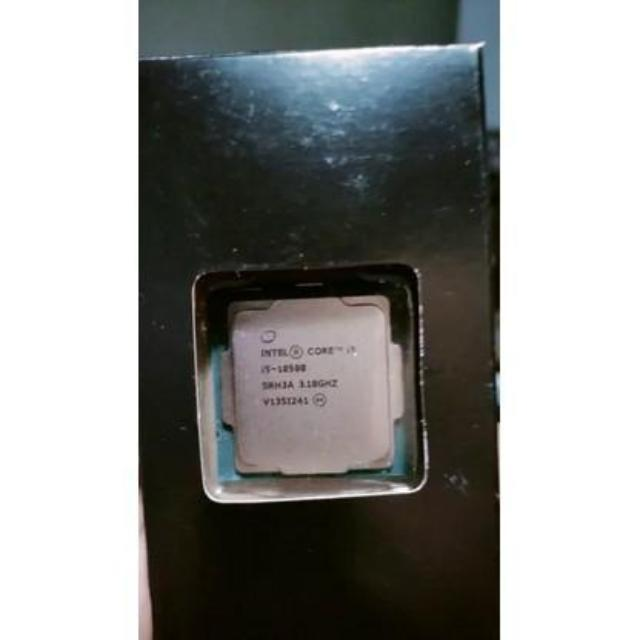CPU: (228, 304, 398, 476)
